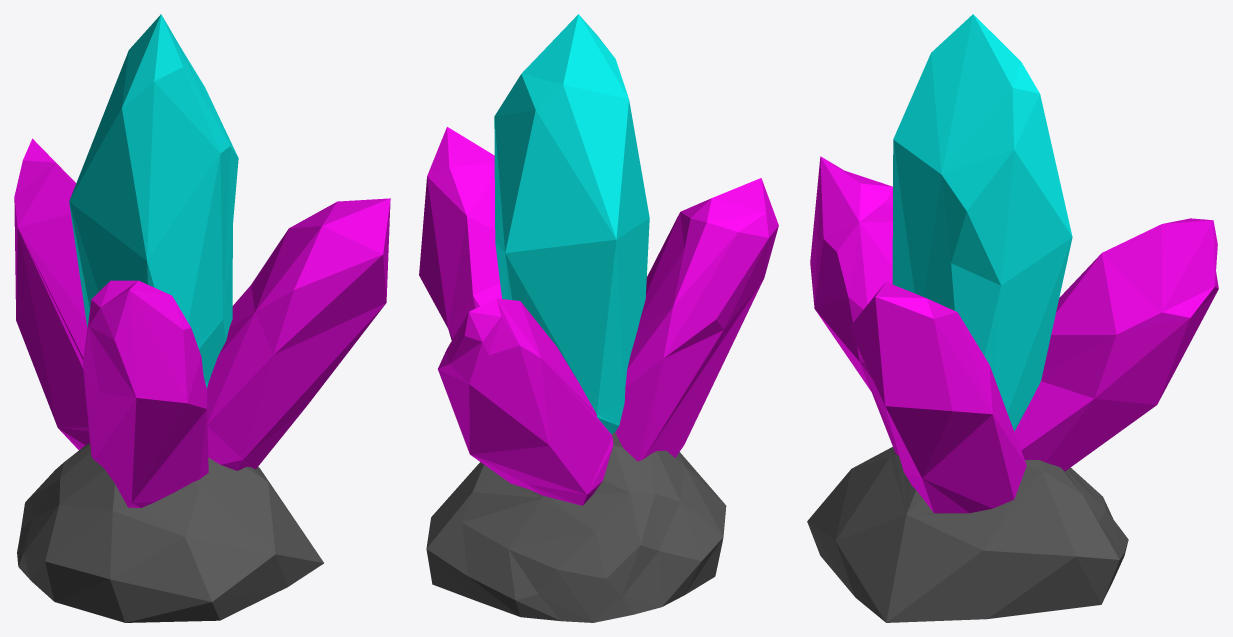
Rendered from CrystalCluster_3.fbx.
3 views of the same model, side by side, from view 1: azimuth 30°, elevation 25°; view 2: azimuth 150°, elevation 25°; view 3: azimuth 270°, elevation 25° (orthographic).
Parts seen in each view (by area): view 1: CrystalCluster_4; view 2: CrystalCluster_4; view 3: CrystalCluster_4.
Part boxes in pixels (left/top/right/bottom): CrystalCluster_4: left=14, top=14, right=390, bottom=622; CrystalCluster_4: left=419, top=14, right=778, bottom=622; CrystalCluster_4: left=807, top=14, right=1218, bottom=622.
Bounding box in the file's own units: 97.56 × 163 × 110.
